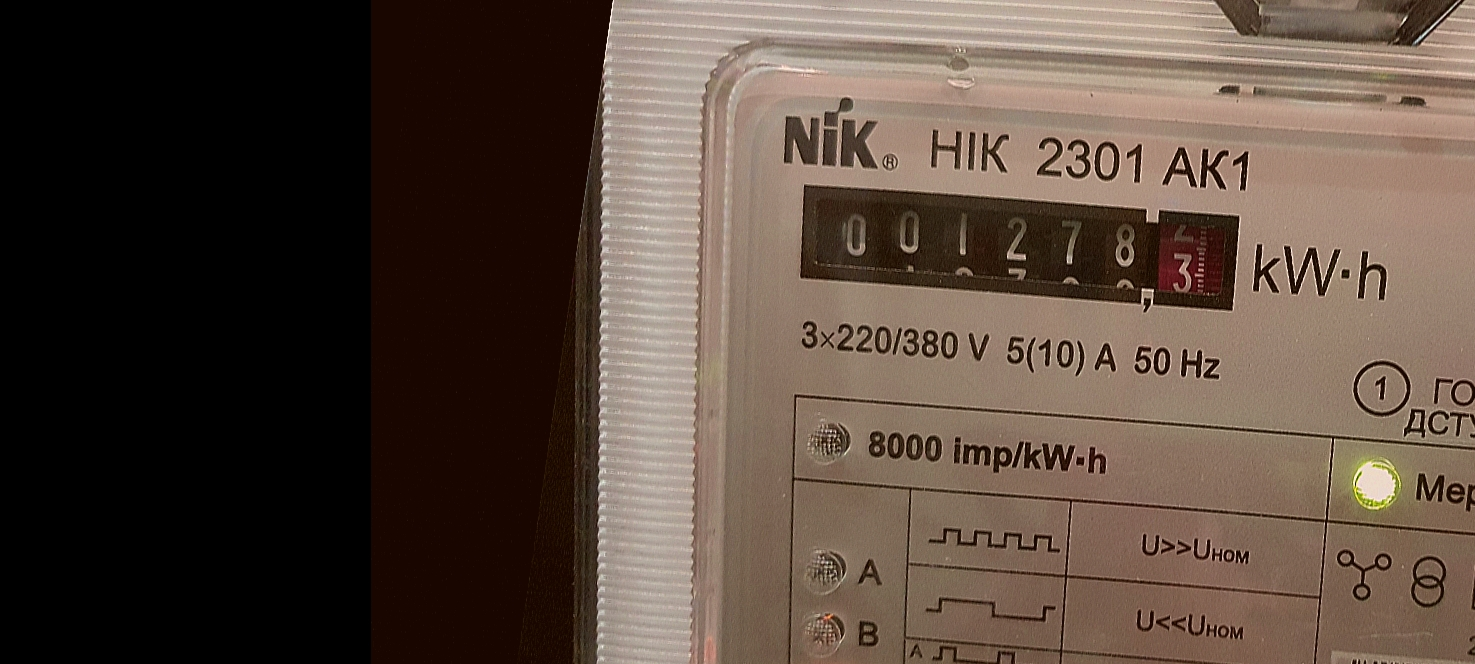0: (841, 208, 876, 260), (895, 207, 926, 256)
1: (954, 209, 977, 259)
2: (1002, 213, 1035, 263), (1171, 222, 1200, 246)
3: (1168, 247, 1200, 294)
7: (1057, 216, 1086, 267)
8: (1111, 220, 1143, 270)
screen: (773, 141, 1265, 351)
